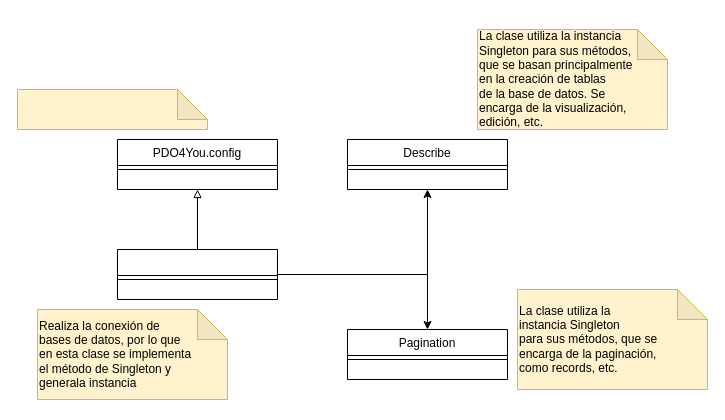
The diagram is 725 pixels wide and 420 high, and some of its shapes have lost their labels. The shapes that lost their labels are listed below. From the top down, each one's box as (x1, y1, x2, y2) in pixels, then its label:
(16, 88, 208, 130): Establece la confiuraciones iniciales del programa
(116, 248, 278, 300): PDO4You
